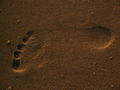human_foot_print: (11, 26, 115, 72)
